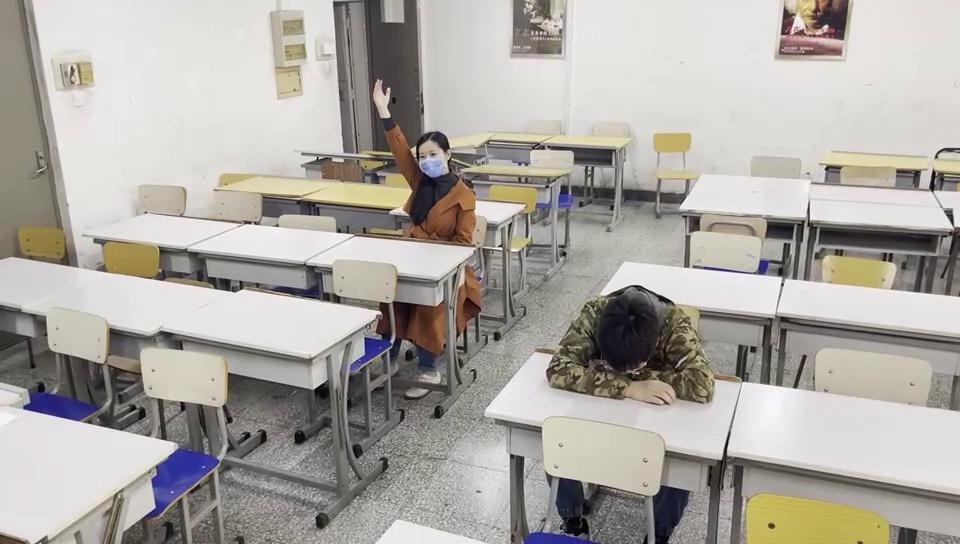sleep: (546, 286, 712, 405)
study: (371, 76, 477, 241)
